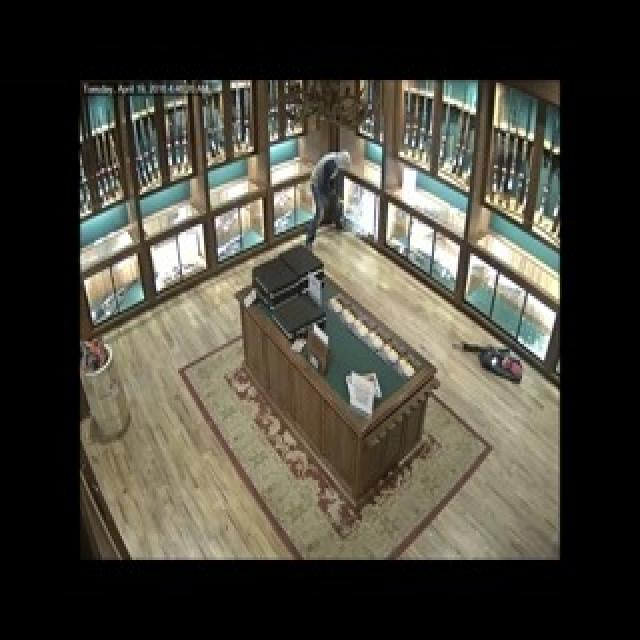thief: (301, 149, 357, 248)
